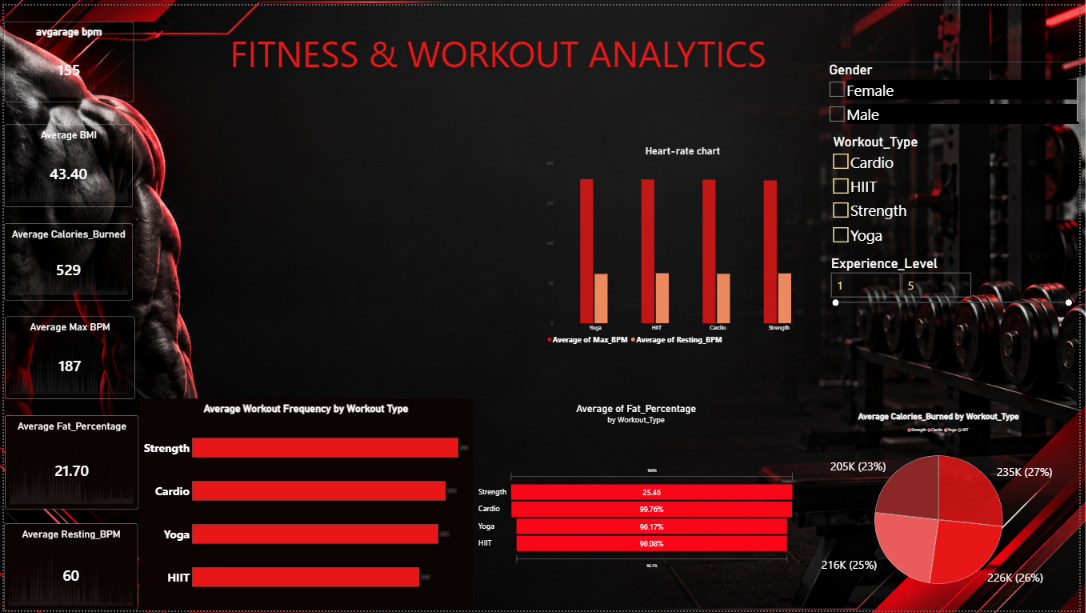

Layout of this report page (visuals, bound fields, positions):
{"tool":"powerbi","page":{"name":"Page 1","canvas":[3840,2160],"ordinal":0},"visuals":[{"type":"kpi","title":"avgarage  bpm","fields":{"Indicator":["Sum(gym_members_exercise_tracking.Avg_BPM)"],"TrendLine":["gym_members_exercise_tracking.Weight (kg)"]},"box":[0,55.8,463.3,286.7],"z":0},{"type":"kpi","title":"Average BMI","fields":{"Indicator":["Sum(gym_members_exercise_tracking.BMI)"],"TrendLine":["gym_members_exercise_tracking.Weight (kg)"]},"box":[0,425.6,460,293.3],"z":1},{"type":"kpi","title":"Average Calories_Burned ","fields":{"Indicator":["Sum(gym_members_exercise_tracking.Calories_Burned)"],"TrendLine":["gym_members_exercise_tracking.Weight (kg)"]},"box":[0,777.9,460,273.3],"z":2},{"type":"kpi","title":"Average Max BPM","fields":{"Indicator":["Sum(gym_members_exercise_tracking.Max_BPM)"],"TrendLine":["gym_members_exercise_tracking.Weight (kg)"]},"box":[3.5,1109.3,463.3,293.3],"z":3},{"type":"kpi","title":"Average Fat_Percentage","fields":{"Indicator":["Sum(gym_members_exercise_tracking.Fat_Percentage)"],"TrendLine":["gym_members_exercise_tracking.Weight (kg)"]},"box":[3.5,1465.1,476.7,333.3],"z":4},{"type":"kpi","title":"Average Resting_BPM","fields":{"Indicator":["Sum(gym_members_exercise_tracking.Resting_BPM)"],"TrendLine":["gym_members_exercise_tracking.Weight (kg)"]},"box":[0,1848.8,477.9,310.5],"z":6},{"type":"barChart","title":"Average Workout Frequency by Workout Type","fields":{"Category":["gym_members_exercise_tracking.Workout_Type"],"Y":["Sum(gym_members_exercise_tracking.Workout_Frequency (days/week))"]},"box":[481.4,1402.3,1193,757],"z":10},{"type":"pieChart","title":" Average Calories_Burned by Workout_Type","fields":{"Category":["gym_members_exercise_tracking.Workout_Type"],"Y":["Sum(gym_members_exercise_tracking.Calories_Burned)"]},"box":[2836.1,1437.2,1004.7,722.1],"z":11},{"type":"funnel","fields":{"Category":["gym_members_exercise_tracking.Workout_Type"],"Y":["Avg(gym_members_exercise_tracking.Fat_Percentage)"]},"box":[1677.9,1402.3,1158.1,757],"z":12},{"type":"lineClusteredColumnComboChart","title":"Heart-rate chart","fields":{"Category":["gym_members_exercise_tracking.Workout_Type"],"Y":["Avg(gym_members_exercise_tracking.Max_BPM)","Avg(gym_members_exercise_tracking.Resting_BPM)"]},"box":[1920.6,483.5,1004.7,746.5],"z":14},{"type":"slicer","fields":{"Values":["gym_members_exercise_tracking.Gender"]},"box":[2940.7,198.8,900,226.7],"z":15},{"type":"slicer","fields":{"Values":["gym_members_exercise_tracking.Workout_Type"]},"box":[2954.7,457,872.1,457],"z":16},{"type":"slicer","fields":{"Values":["gym_members_exercise_tracking.Experience_Level"]},"box":[2947.7,893,872.1,460.5],"z":17},{"type":"textbox","box":[575.6,83.7,2379.1,258.1],"z":18}]}

Visuals, with their boxes in screenshot pixels (x1, y1, x2, y2), scaled from the page's 3840x2160 canvas onto the 1086x613 screenshot:
"avgarage  bpm" kpi: {"left": 0, "top": 16, "right": 131, "bottom": 97}
"Average BMI" kpi: {"left": 0, "top": 121, "right": 130, "bottom": 204}
"Average Calories_Burned " kpi: {"left": 0, "top": 221, "right": 130, "bottom": 298}
"Average Max BPM" kpi: {"left": 1, "top": 315, "right": 132, "bottom": 398}
"Average Fat_Percentage" kpi: {"left": 1, "top": 416, "right": 136, "bottom": 510}
"Average Resting_BPM" kpi: {"left": 0, "top": 525, "right": 135, "bottom": 612}
"Average Workout Frequency by Workout Type" barChart: {"left": 136, "top": 398, "right": 474, "bottom": 612}
" Average Calories_Burned by Workout_Type" pieChart: {"left": 802, "top": 408, "right": 1085, "bottom": 612}
funnel - gym_members_exercise_tracking.Workout_Type x Avg(gym_members_exercise_tracking.Fat_Percentage): {"left": 475, "top": 398, "right": 802, "bottom": 612}
"Heart-rate chart" lineClusteredColumnComboChart: {"left": 543, "top": 137, "right": 827, "bottom": 349}
slicer - gym_members_exercise_tracking.Gender: {"left": 832, "top": 56, "right": 1085, "bottom": 121}
slicer - gym_members_exercise_tracking.Workout_Type: {"left": 836, "top": 130, "right": 1082, "bottom": 259}
slicer - gym_members_exercise_tracking.Experience_Level: {"left": 834, "top": 253, "right": 1080, "bottom": 384}
textbox: {"left": 163, "top": 24, "right": 836, "bottom": 97}
